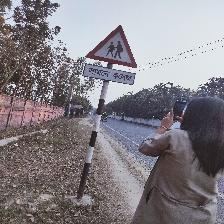College-in-front: (66, 5, 169, 120)
